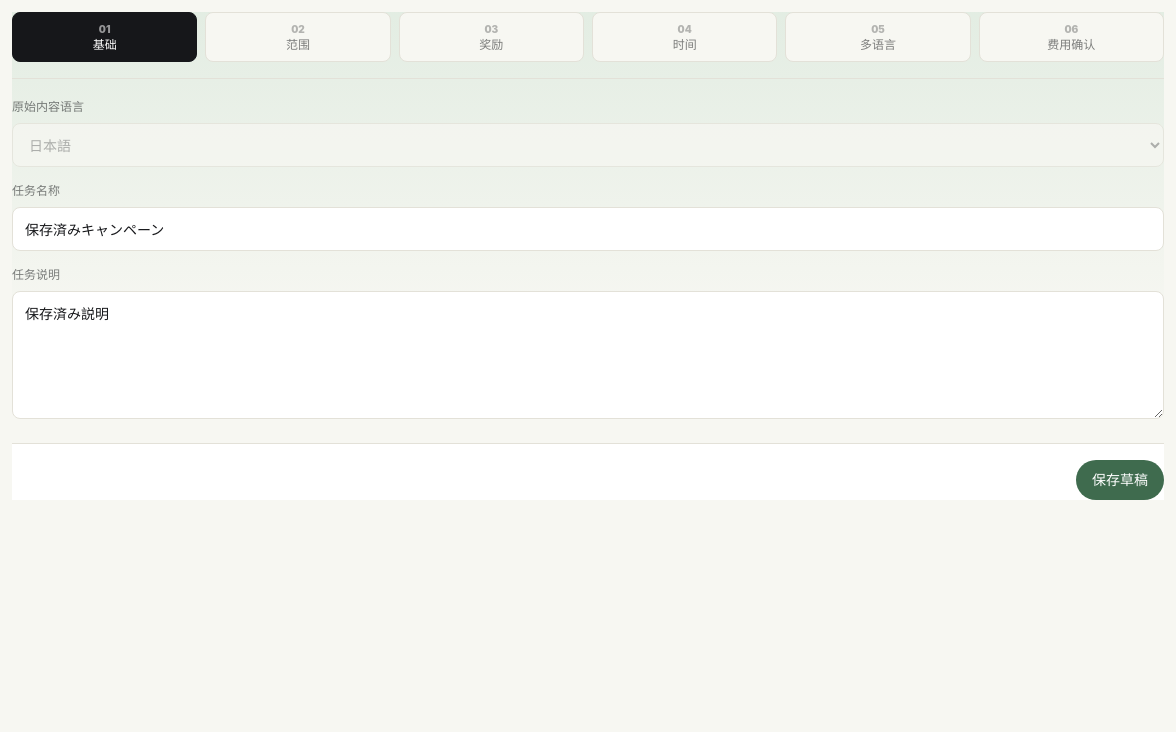
Test: MerchantAffiliateTaskEditor › keeps the draft and form values when submit fails
Click the button "06 费用确认": (1071, 37) x1=979 y1=12 x2=1164 y2=62
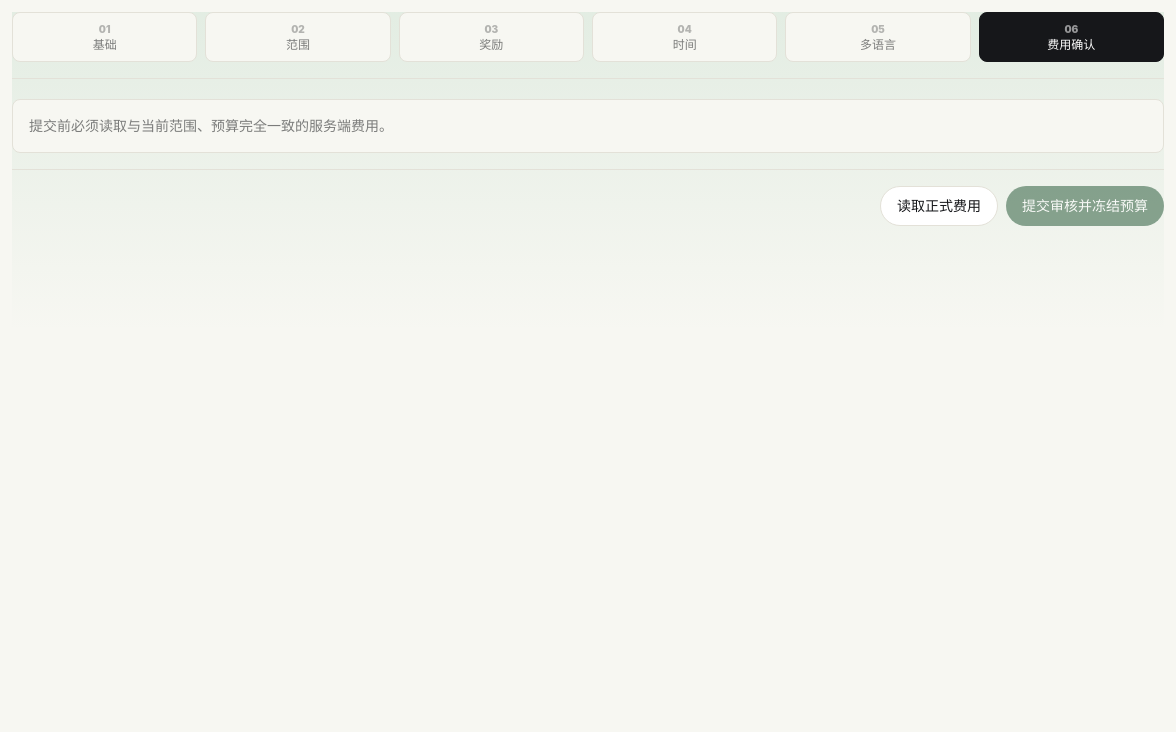
Click the button "读取正式费用": (939, 206) x1=880 y1=186 x2=998 y2=226
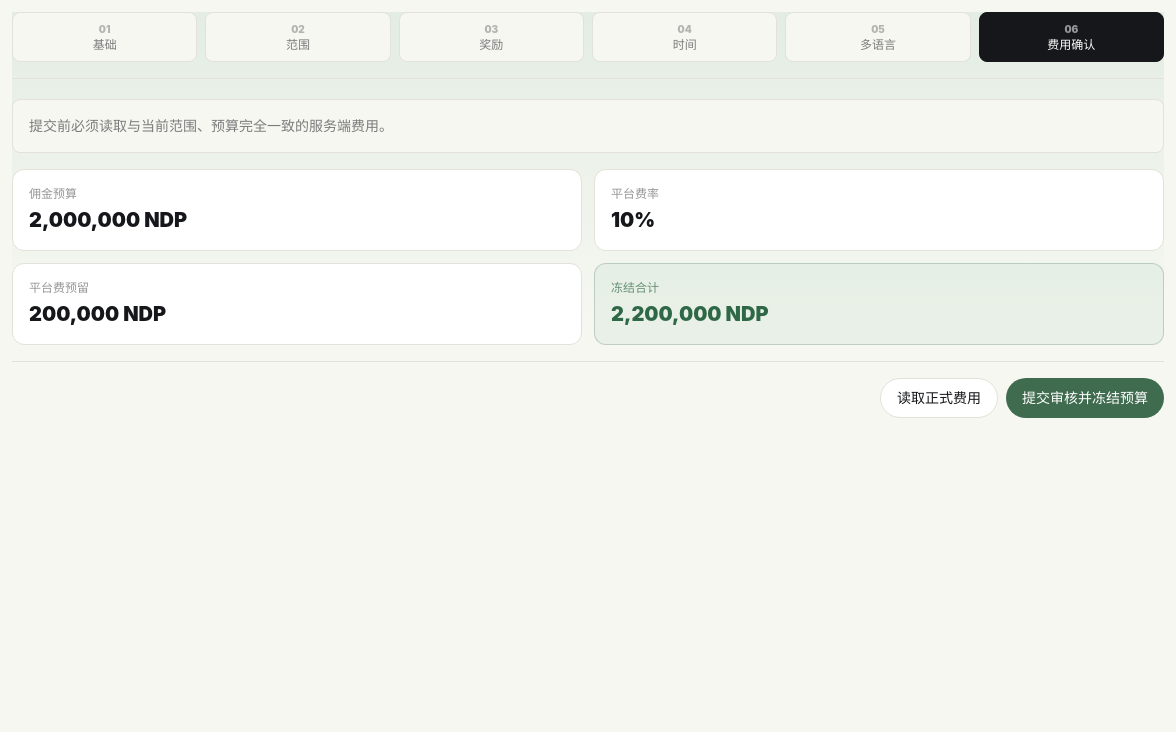
Click the button "提交审核并冻结预算": (1085, 398) x1=1006 y1=378 x2=1164 y2=418
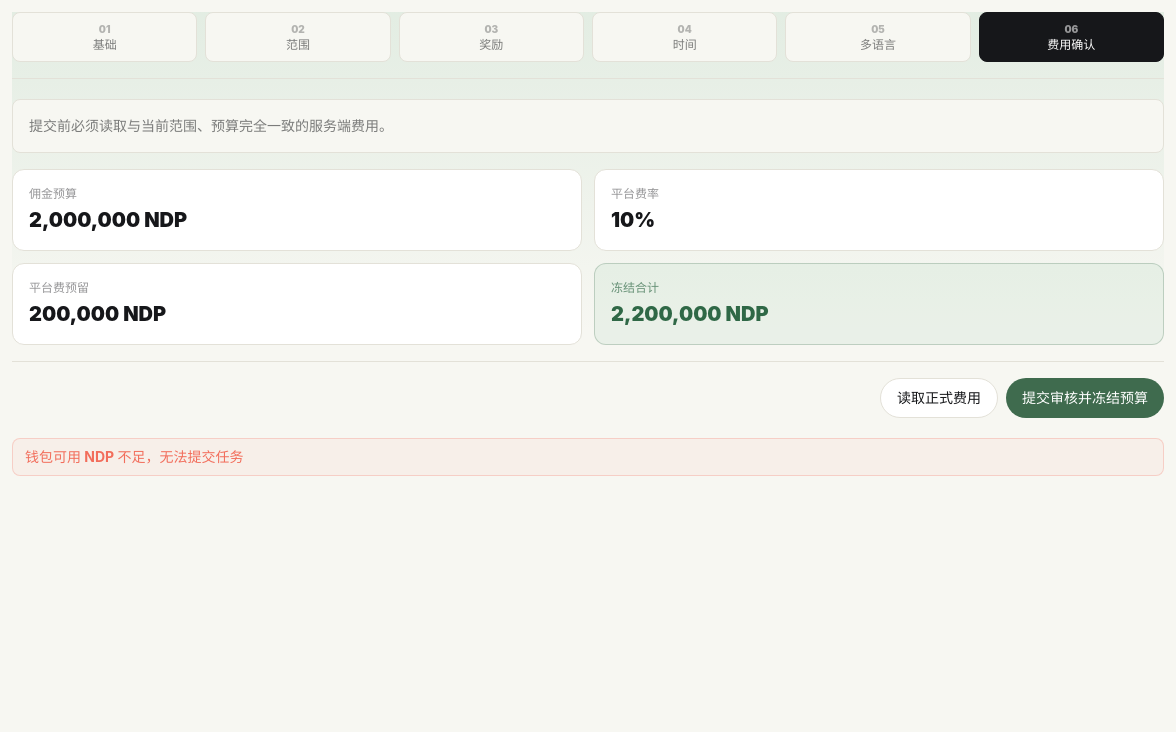
Now the text "钱包可用 NDP 不足" is shown, box x1=25 y1=448 x2=244 y2=465
Click the button "01 基础": (105, 37) x1=12 y1=12 x2=197 y2=62
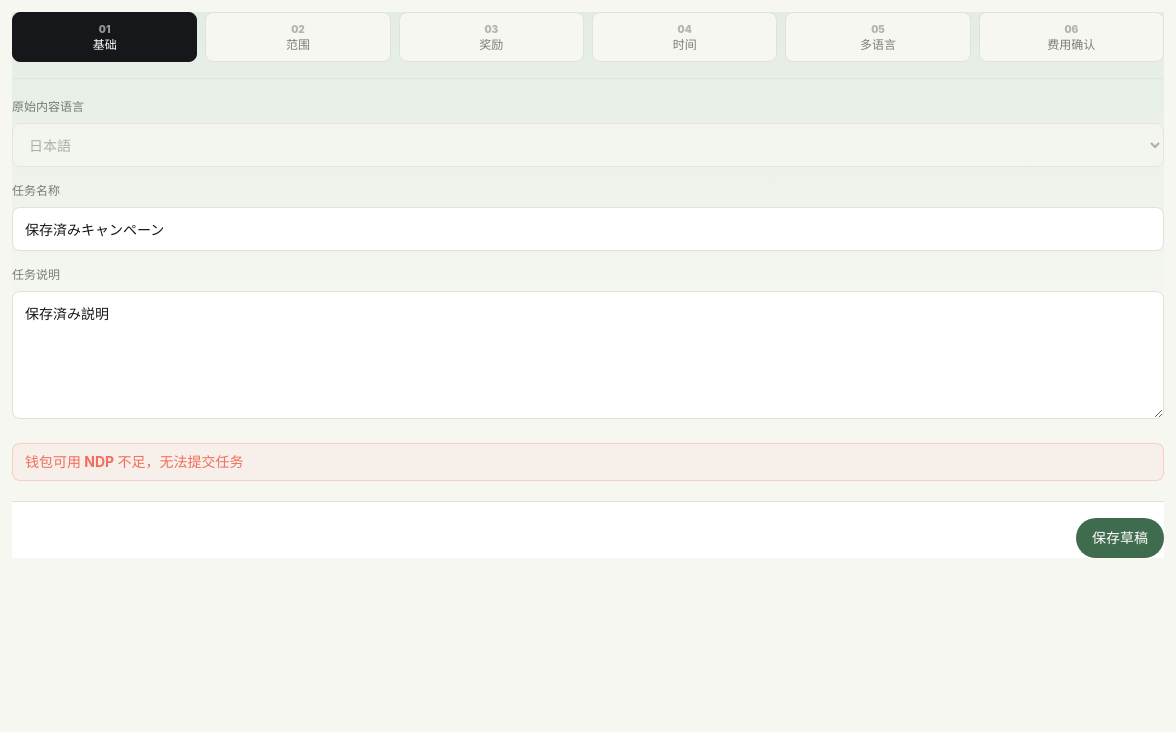
Now the field labelled "任务名称" holds "保存済みキャンペーン", box x1=12 y1=207 x2=1164 y2=251
